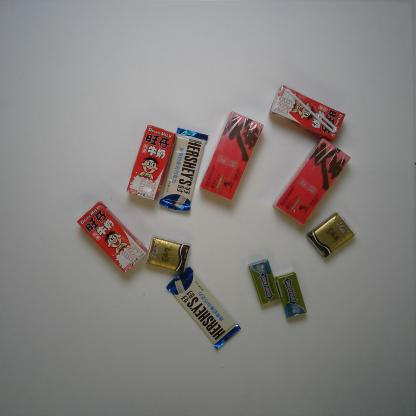Chocolate: (165, 265, 242, 351), (156, 124, 209, 216)
Gum: (272, 270, 308, 318), (246, 258, 281, 306)
Instant Drink: (272, 136, 354, 228), (198, 110, 265, 202)
Milk: (76, 200, 152, 273), (264, 82, 353, 140), (125, 122, 178, 202)
Tissue: (304, 210, 356, 259), (144, 235, 191, 274)
